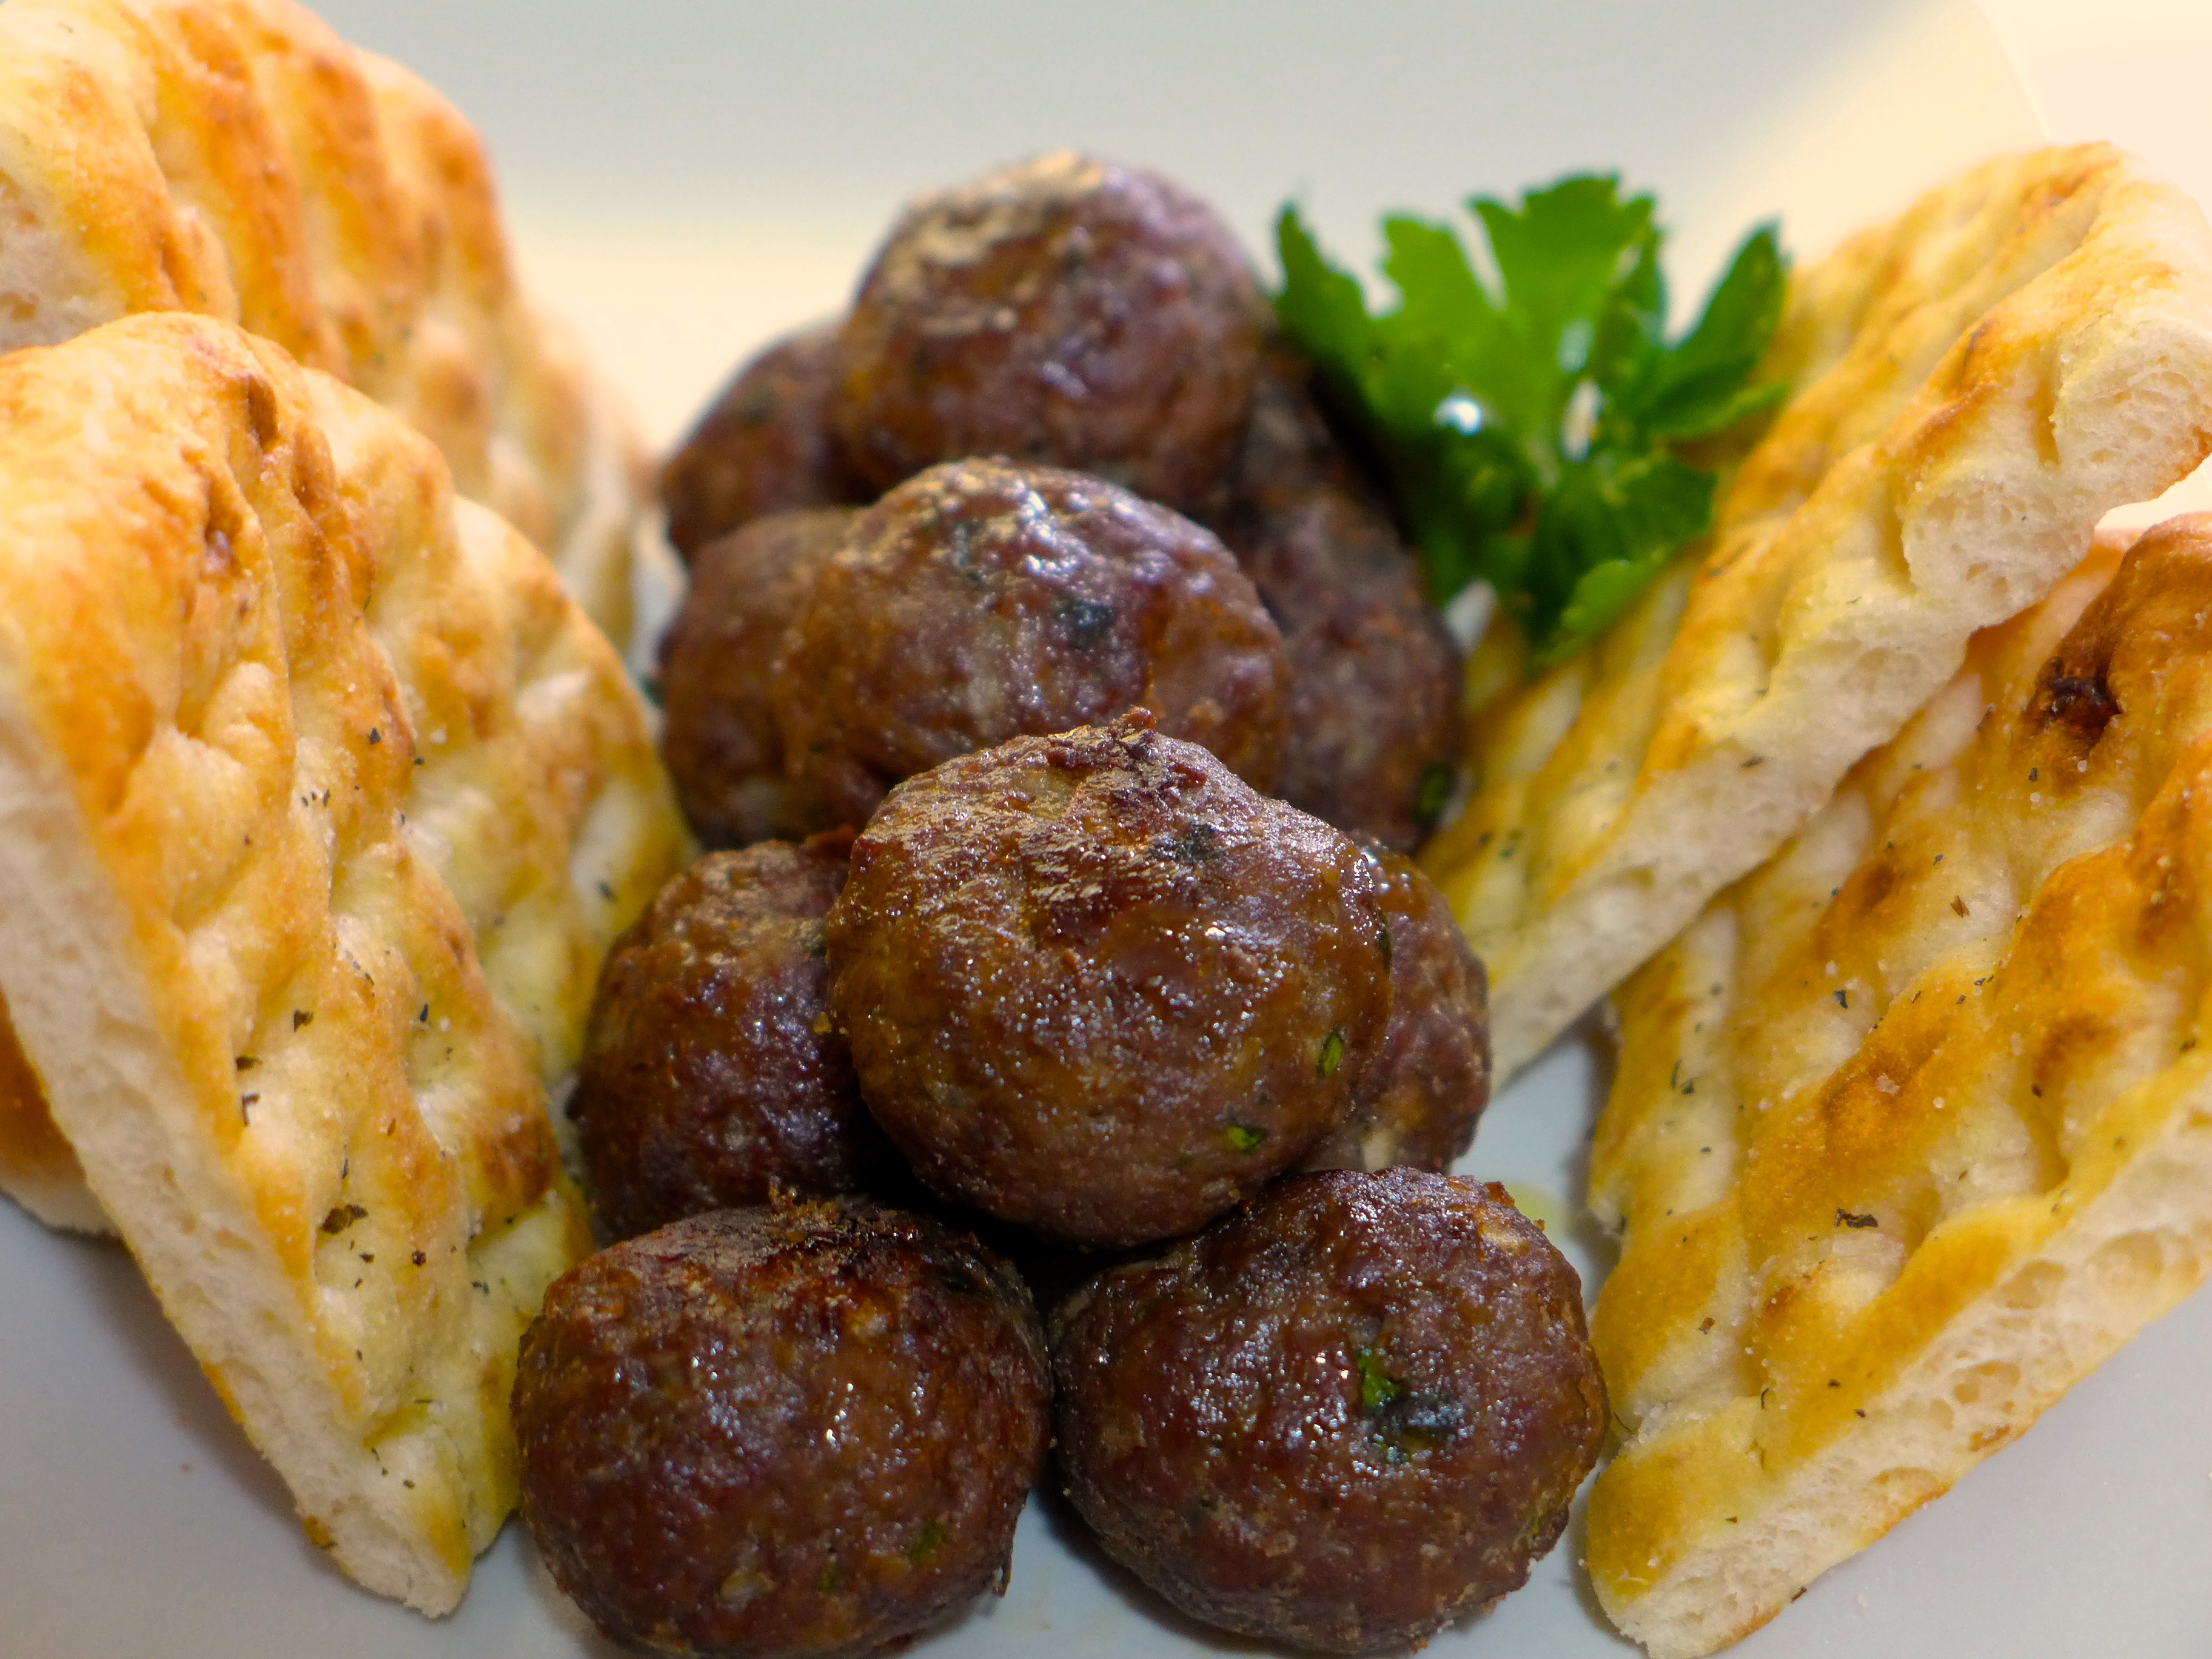meatballs: (693, 301, 1463, 1539)
